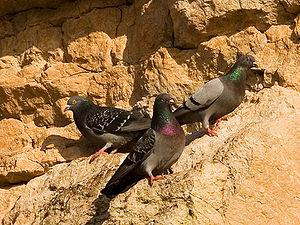Flying Rat: (175, 49, 262, 139), (115, 95, 180, 199), (61, 90, 148, 154)
